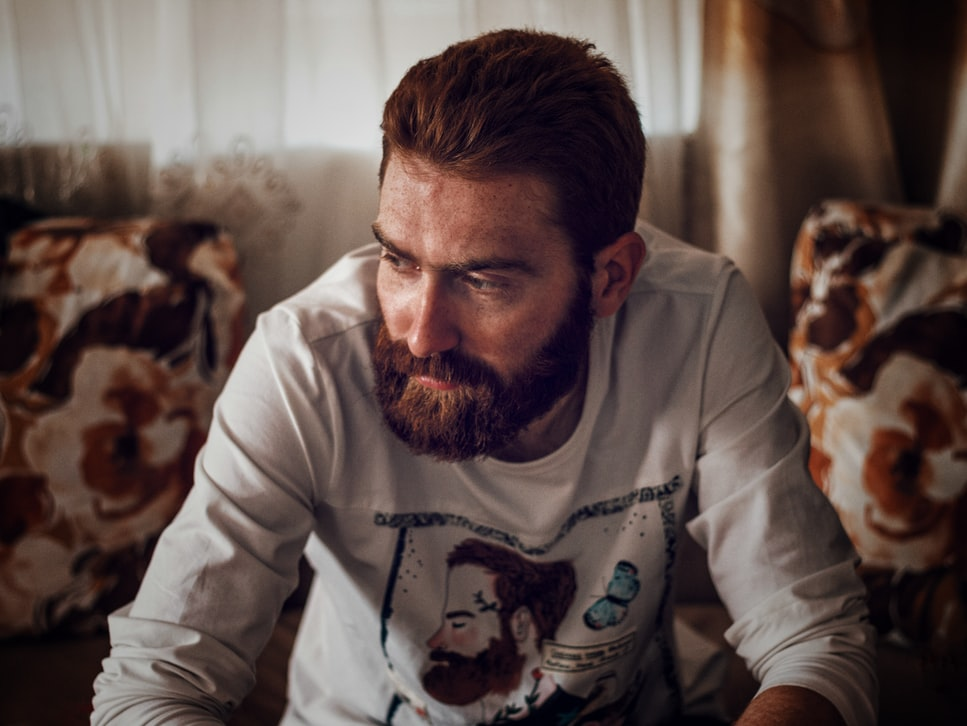beard: (362, 311, 607, 467)
